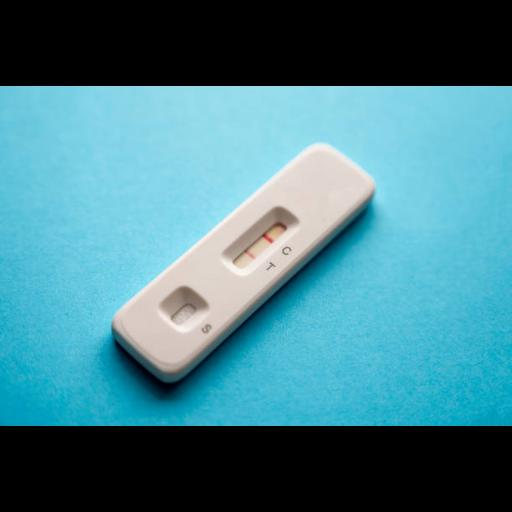Pos: (109, 139, 380, 375)
